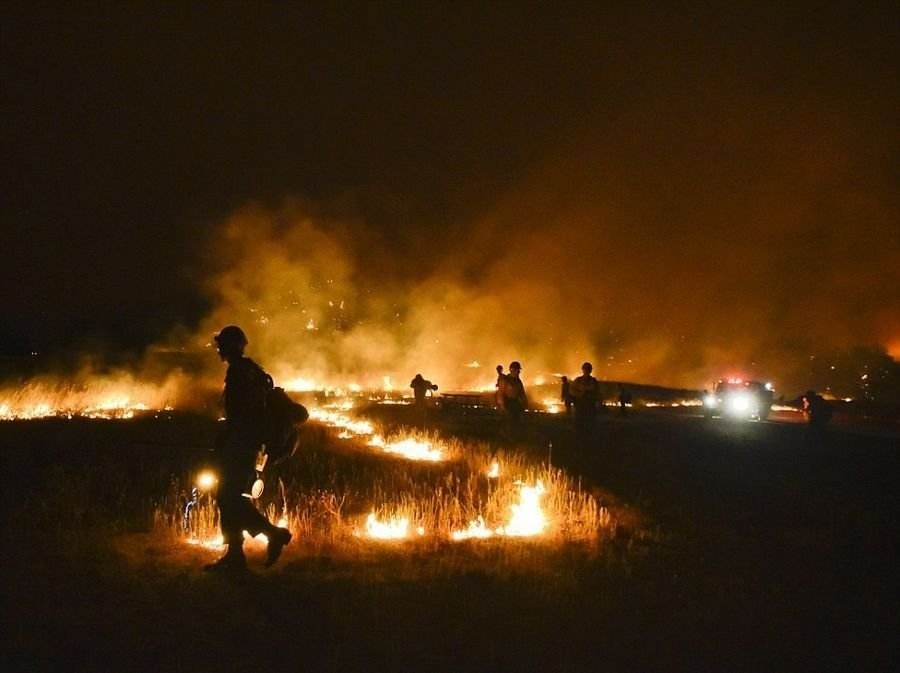fire: (167, 353, 575, 553)
